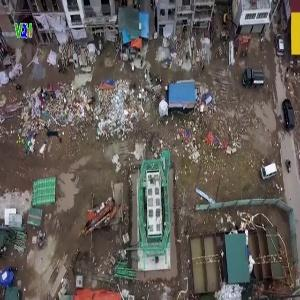drone: (35, 122, 72, 159)
